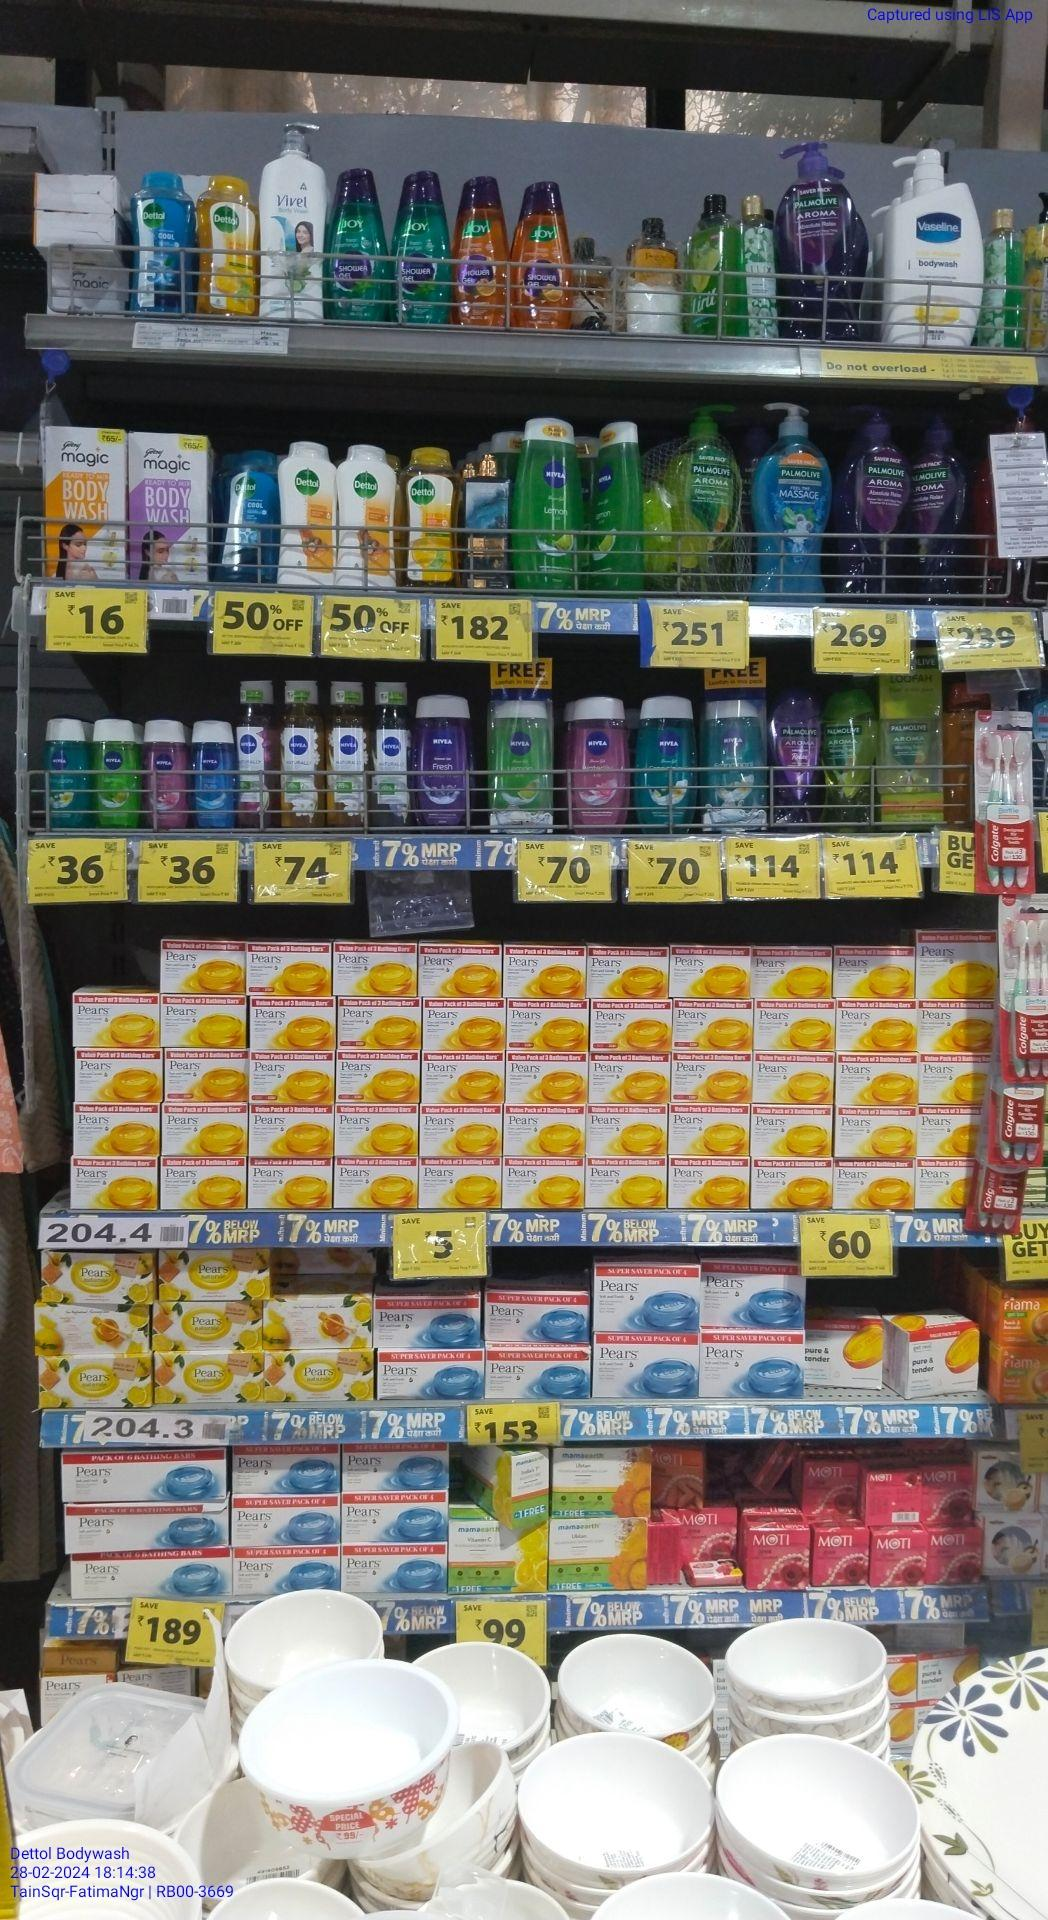Dettol_Bodywash_Cool: (213, 449, 276, 587), (133, 170, 191, 315)
Dettol_Bodywash_Refresh: (197, 173, 262, 319), (404, 443, 463, 596)
Dettol_Nourish_Body_Wash_250ML: (339, 441, 399, 592), (281, 440, 337, 588)
Joy_Shower_Gel_Mandarin_and_Lemongrass_250ML: (514, 174, 574, 328), (453, 172, 511, 330)
Joy_Shower_Gel_Mint_and_Eucalyptus_250ML: (329, 163, 390, 321), (394, 166, 450, 323)
Nivea_Shower_Gel_Frangipani_and_Oil_250ML: (635, 693, 706, 839), (41, 716, 92, 828)
Nivea_Shower_Gel_Lemon_and_Oil_250ML: (521, 415, 583, 600), (94, 716, 139, 830)
Nivea_Shower_Gel_Waterlily_and_Oil_250ML: (570, 695, 626, 834), (141, 715, 187, 831)
Palmolive_Aroma_Morning_Tonic_Shower_Gel_250ML: (822, 683, 876, 836)
Palmolive_Aroma_Relax_250ML: (772, 677, 818, 834)
